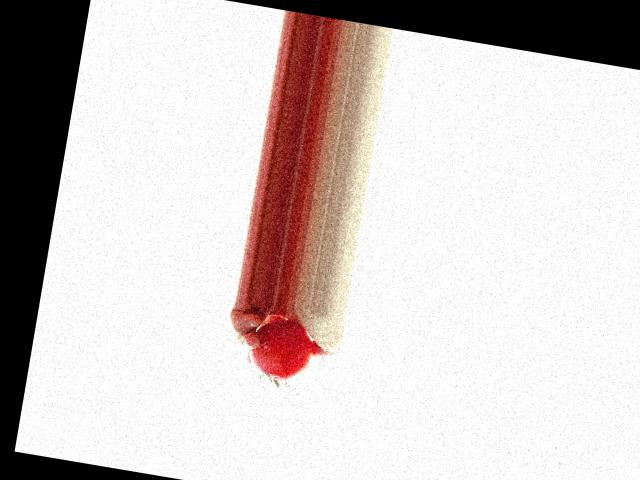tomato: (244, 314, 316, 385)
